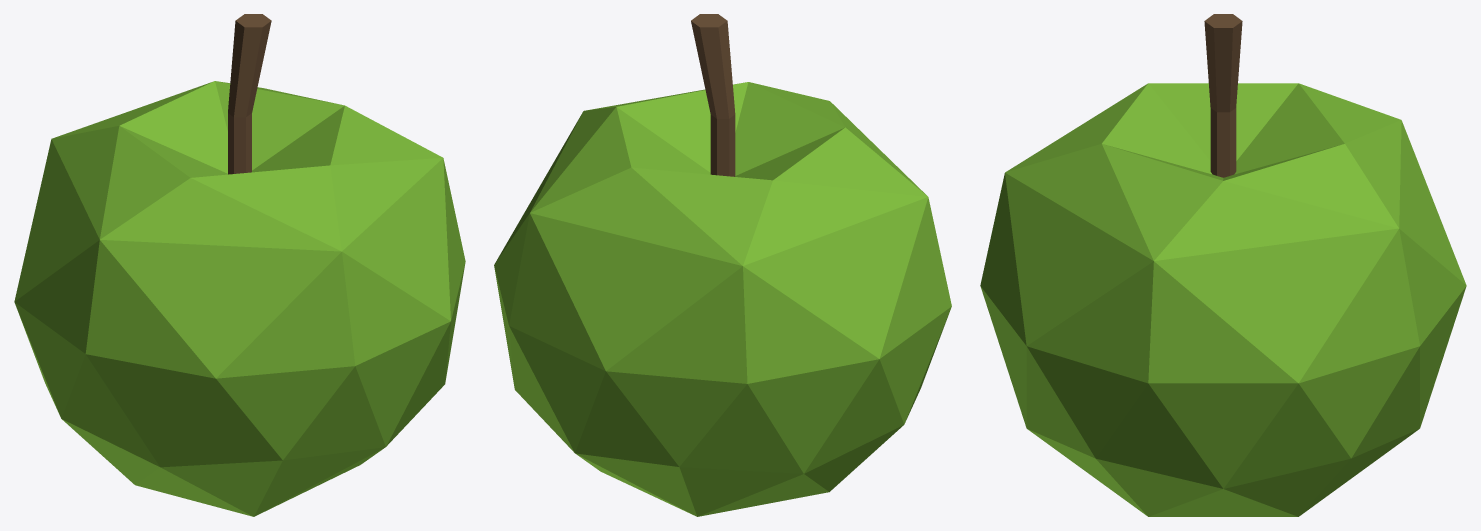
The model's file is Apple_dra.glb.
3 views of the same model, side by side, from view 1: azimuth 30°, elevation 25°; view 2: azimuth 150°, elevation 25°; view 3: azimuth 270°, elevation 25° (orthographic). The views are drawn at different scales.
Parts seen in each view (by area): view 1: Apple; view 2: Apple; view 3: Apple.
Part boxes in pixels (left/top/right/bottom): Apple: left=14, top=14, right=465, bottom=516; Apple: left=494, top=14, right=951, bottom=516; Apple: left=980, top=14, right=1466, bottom=516.
Bounding box in the file's own units: 0.1447 × 0.1694 × 0.1521.
Materials: 1 (1 with a texture image).
